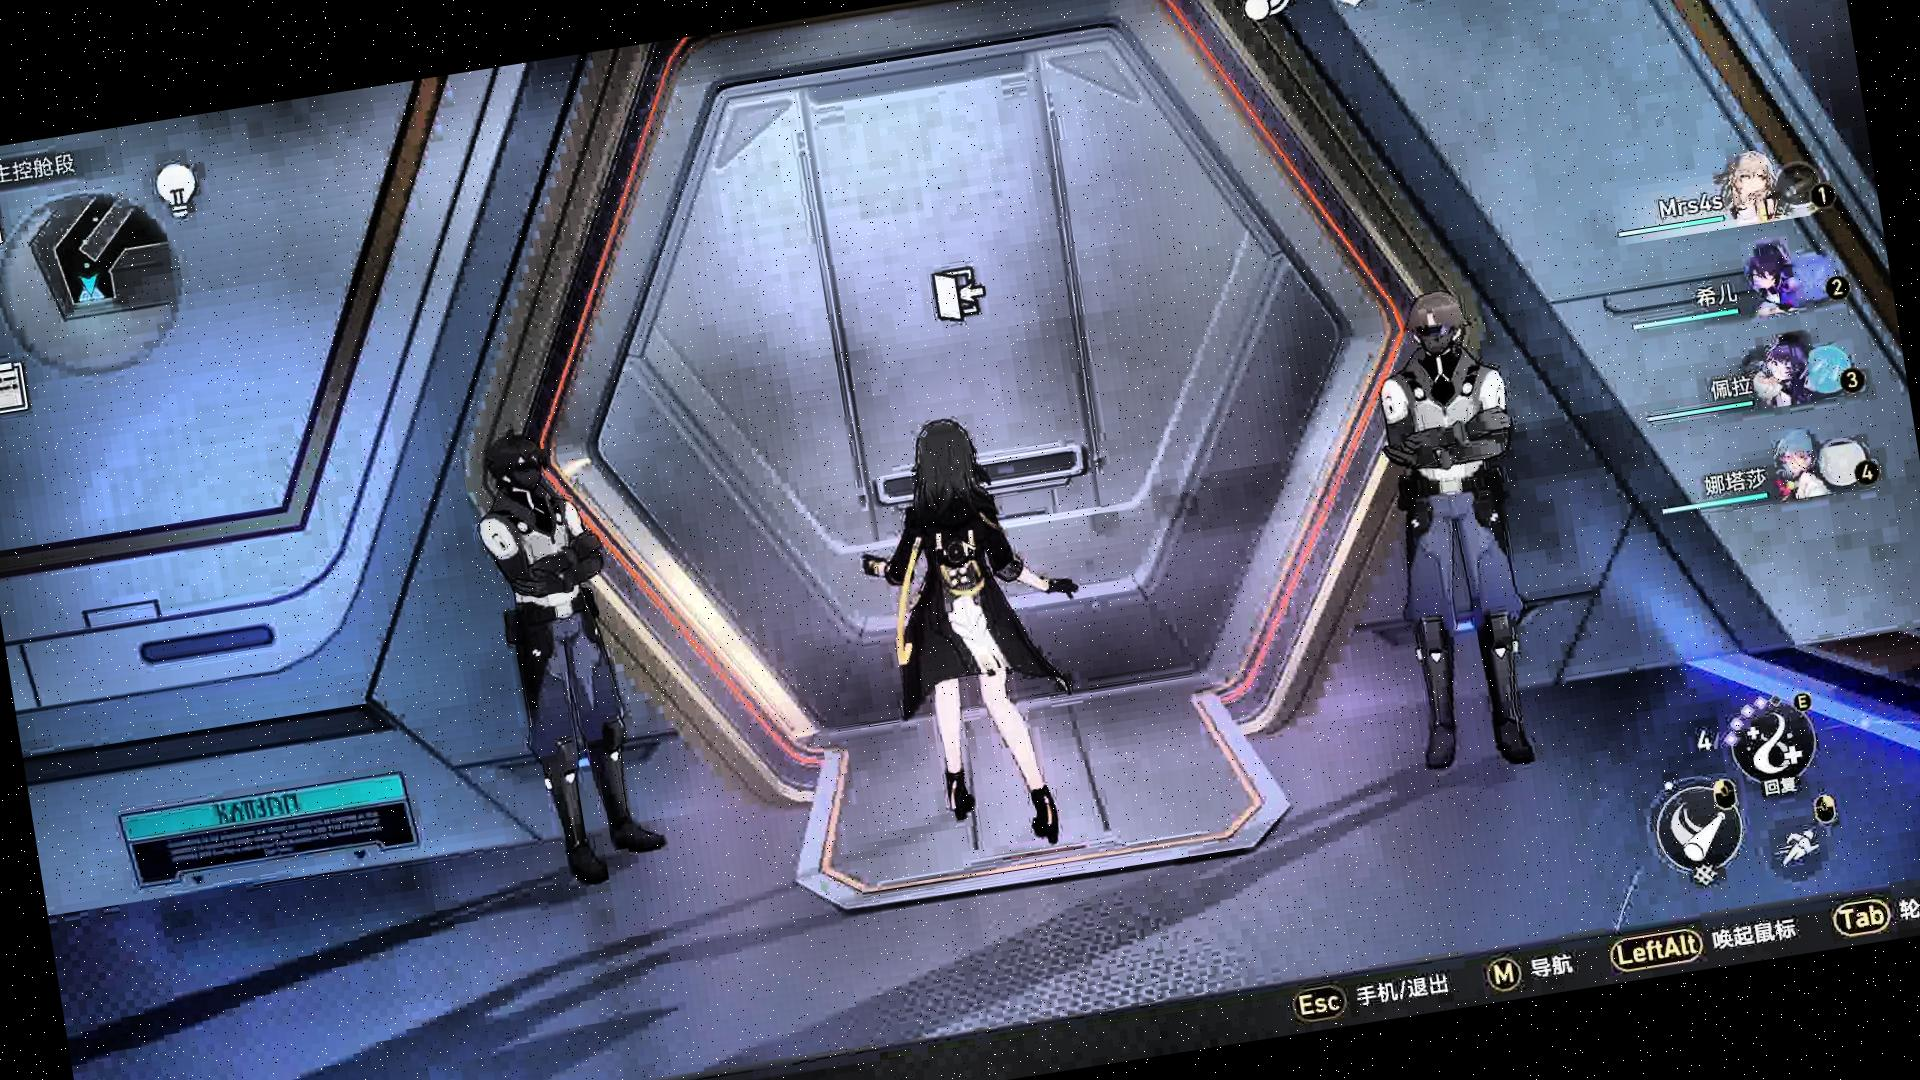Self: (839, 401, 1120, 869)
TeamMate: (1348, 287, 1555, 787), (467, 418, 676, 898)
